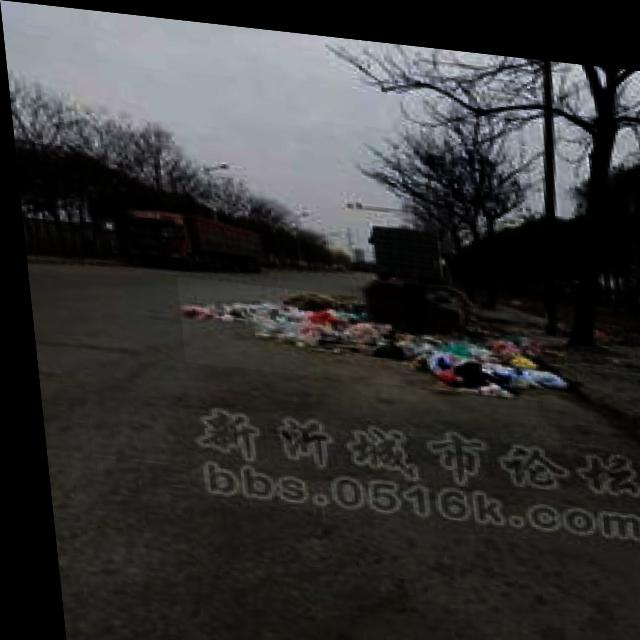garbage: (171, 273, 564, 392)
